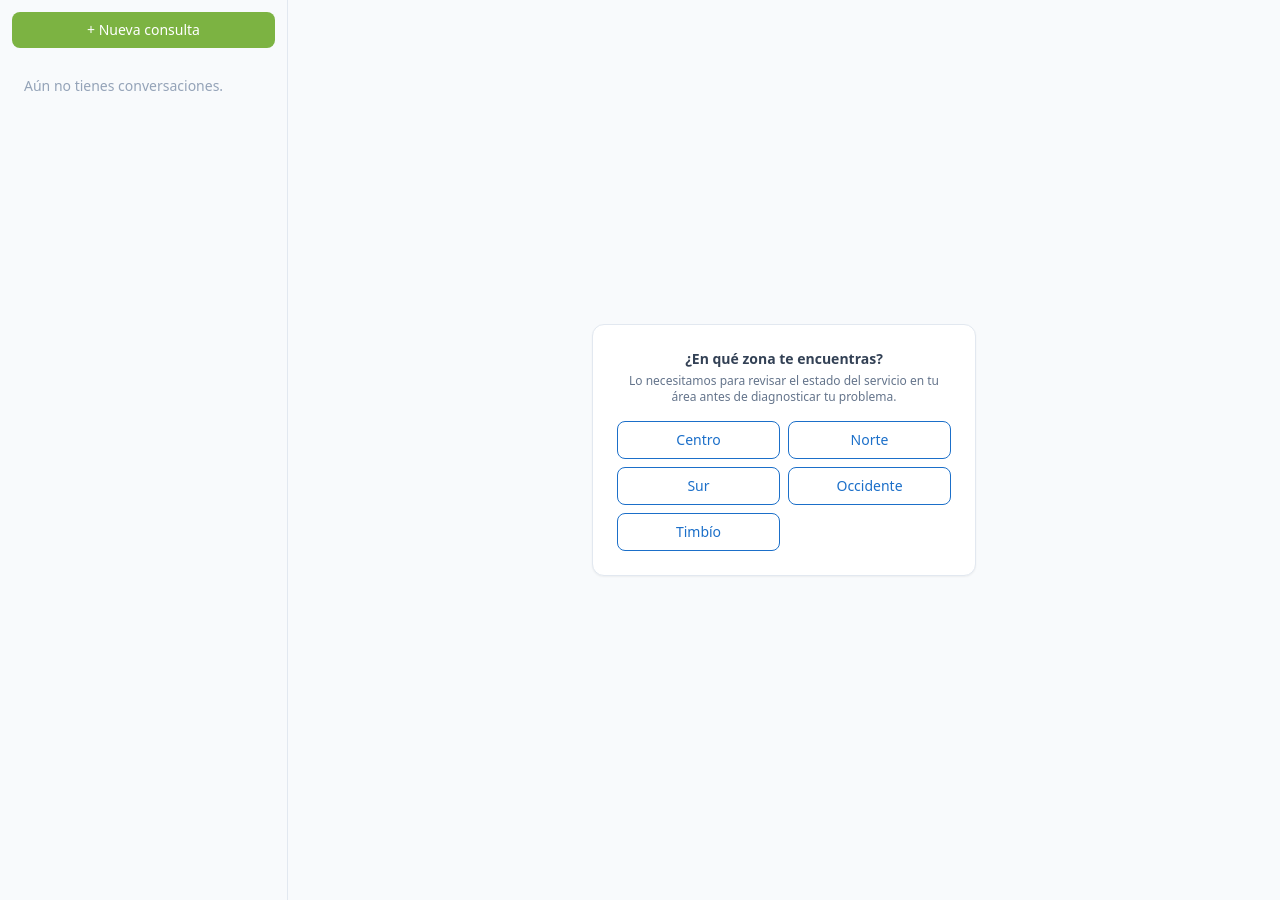
Test: ChatPage › pide la zona antes de mostrar el chat y la recuerda para la próxima vez
Expected: the text "¿En qué zona te encuentras?" is shown, [685, 349, 883, 368]
Expected: the button "No tengo internet" is not shown
Click the button "Centro": (698, 440) [617, 421, 780, 459]
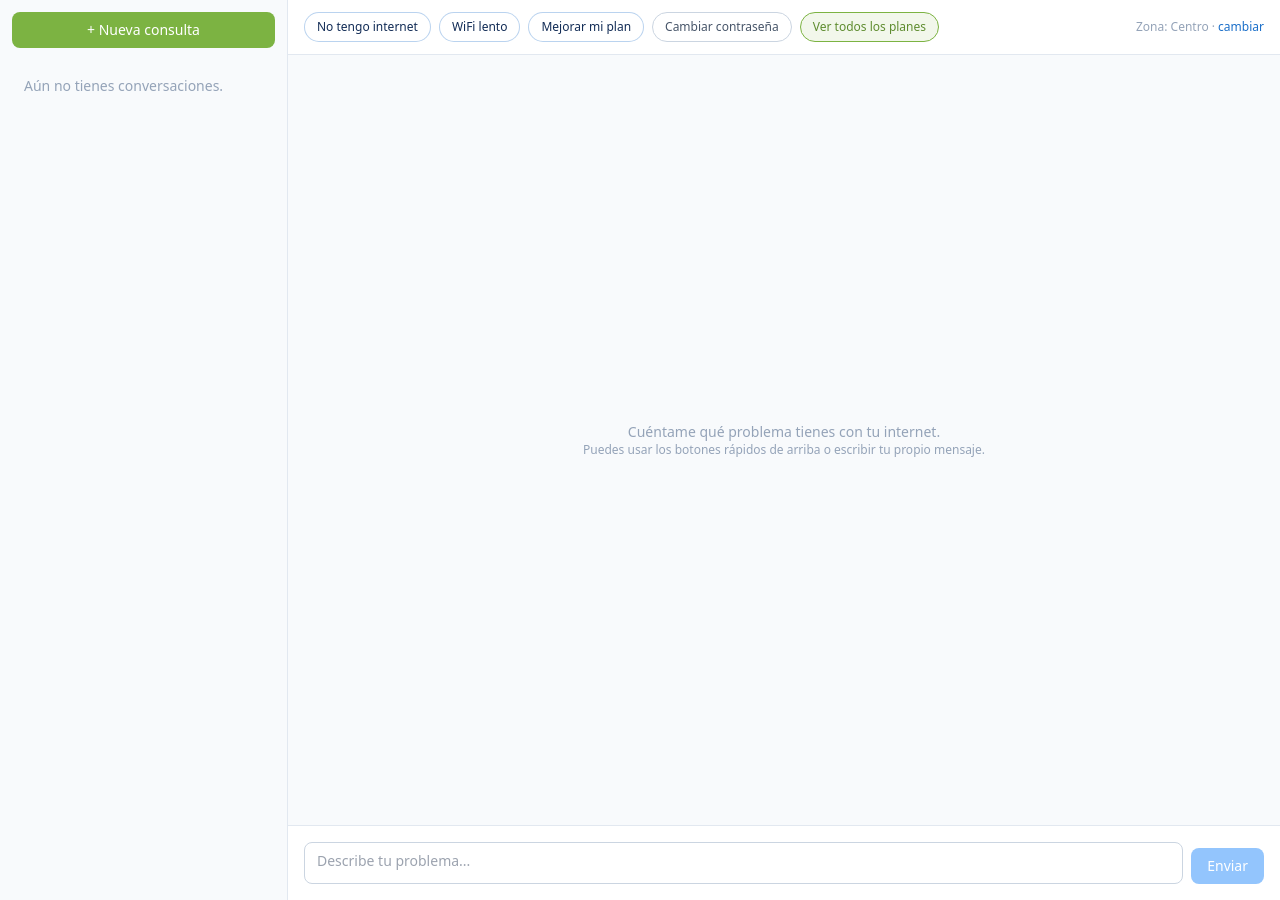
Expected: the button "No tengo internet" is shown, [304, 12, 431, 42]
